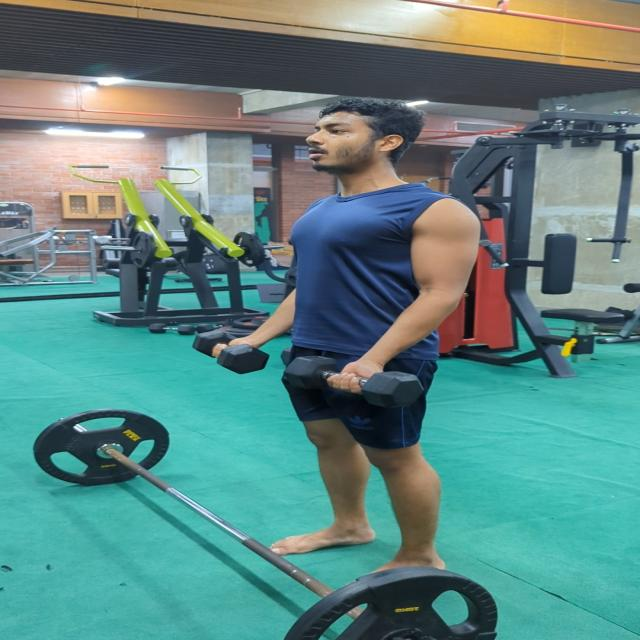Normal_DumbbellBicepCurls: (194, 96, 485, 578)
